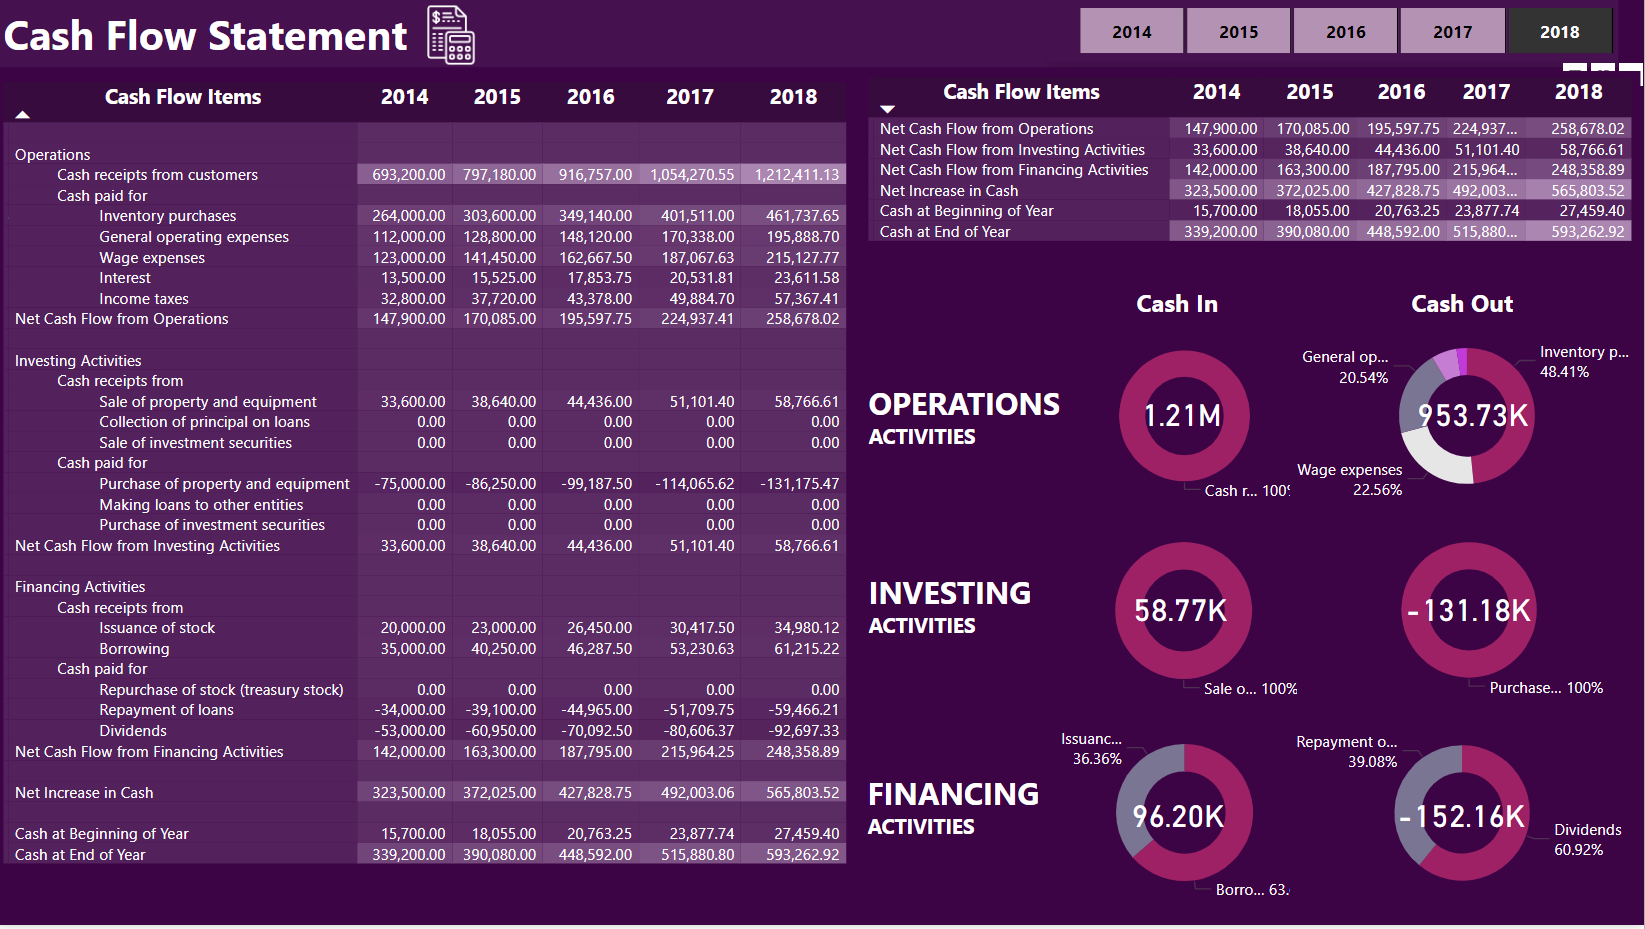

Layout of this report page (visuals, bound fields, positions):
{"tool":"powerbi","page":{"name":"Cash Flow Statement","canvas":[1280,720],"ordinal":3},"visuals":[{"type":"pivotTable","fields":{"Rows":["CF Template.Row Index","CF Template.Cash Flow Items"],"Values":["CF Measures.CF Selected Year Actuals"],"Columns":["Dates.Year"]},"box":[0,60,666.2,651.2],"z":0},{"type":"textbox","box":[0,0,1259.8,53.3],"z":1000},{"type":"donutChart","fields":{"Y":["CF Measures.CS Values"],"Category":["F_CashFlowData.Cash Flow Sub Category"]},"box":[816.2,250,213.8,147.5],"z":2000},{"type":"card","fields":{"Values":["CF Measures.CS Values"]},"box":[843.8,292.5,153.8,61.2],"z":3000},{"type":"textbox","box":[672.5,292.5,167.5,73.8],"z":4000},{"type":"donutChart","fields":{"Y":["CF Measures.CS Values"],"Category":["F_CashFlowData.Cash Flow Sub Category"]},"box":[1005,250,275,147.5],"z":5000},{"type":"card","fields":{"Values":["CF Measures.CS Values"]},"box":[1070,292.5,153.8,61.2],"z":6000},{"type":"textbox","box":[672.5,438.8,157.5,75],"z":7000},{"type":"donutChart","fields":{"Y":["CF Measures.CS Values"],"Category":["F_CashFlowData.Cash Flow Sub Category"]},"box":[816.2,397.5,212.5,156.2],"z":8000},{"type":"card","fields":{"Values":["CF Measures.CS Values"]},"box":[865,455,108.8,38.8],"z":9000},{"type":"donutChart","fields":{"Y":["BS Measures.ABS CF VAlues"],"Category":["F_CashFlowData.Cash Flow Sub Category"]},"box":[1010,401.2,267.5,147.5],"z":10000},{"type":"card","fields":{"Values":["CF Measures.CS Values"]},"box":[1088.8,455,108.8,38.8],"z":11000},{"type":"textbox","box":[671.2,595,168.8,73.8],"z":12000},{"type":"donutChart","fields":{"Y":["CF Measures.CS Values"],"Category":["F_CashFlowData.Cash Flow Sub Category"]},"box":[816.2,553.8,213.8,156.2],"z":13000},{"type":"donutChart","fields":{"Y":["BS Measures.ABS CF VAlues"],"Category":["F_CashFlowData.Cash Flow Sub Category"]},"box":[1005,558.8,267.5,147.5],"z":14000},{"type":"card","fields":{"Values":["CF Measures.CS Values"]},"box":[860,613.8,115,40],"z":15000},{"type":"card","fields":{"Values":["CF Measures.CS Values"]},"box":[1080,613.8,115,40],"z":16000},{"type":"textbox","box":[867.5,218.8,100,41.2],"z":17000},{"type":"textbox","box":[1088.8,218.8,100,41.2],"z":18000},{"type":"slicer","fields":{"Values":["Dates.Year"]},"box":[816.2,0,463.8,48.8],"z":19000},{"type":"image","box":[303.8,0,97.5,56.2],"z":20000},{"type":"pivotTable","fields":{"Rows":["CF Template.Row Index","CF Template.Cash Flow Items"],"Values":["CF Measures.CF Selected Year Actuals"],"Columns":["Dates.Year"]},"box":[672.5,56.2,605,138.8],"z":21000}]}

Visuals, with their boxes in screenshot pixels (x1, y1, x2, y2), scaled from the page's 1280x720 canvas onto the 1645x929 screenshot:
pivotTable - CF Template.Row Index x CF Template.Cash Flow Items: [x1=0, y1=77, x2=856, y2=918]
textbox: [x1=0, y1=0, x2=1619, y2=69]
donutChart - CF Measures.CS Values x F_CashFlowData.Cash Flow Sub Category: [x1=1049, y1=323, x2=1324, y2=513]
card - CF Measures.CS Values: [x1=1084, y1=377, x2=1282, y2=456]
textbox: [x1=864, y1=377, x2=1080, y2=473]
donutChart - CF Measures.CS Values x F_CashFlowData.Cash Flow Sub Category: [x1=1292, y1=323, x2=1644, y2=513]
card - CF Measures.CS Values: [x1=1375, y1=377, x2=1573, y2=456]
textbox: [x1=864, y1=566, x2=1067, y2=663]
donutChart - CF Measures.CS Values x F_CashFlowData.Cash Flow Sub Category: [x1=1049, y1=513, x2=1322, y2=714]
card - CF Measures.CS Values: [x1=1112, y1=587, x2=1251, y2=637]
donutChart - BS Measures.ABS CF VAlues x F_CashFlowData.Cash Flow Sub Category: [x1=1298, y1=518, x2=1642, y2=708]
card - CF Measures.CS Values: [x1=1399, y1=587, x2=1539, y2=637]
textbox: [x1=863, y1=768, x2=1080, y2=863]
donutChart - CF Measures.CS Values x F_CashFlowData.Cash Flow Sub Category: [x1=1049, y1=715, x2=1324, y2=916]
donutChart - BS Measures.ABS CF VAlues x F_CashFlowData.Cash Flow Sub Category: [x1=1292, y1=721, x2=1635, y2=911]
card - CF Measures.CS Values: [x1=1105, y1=792, x2=1253, y2=844]
card - CF Measures.CS Values: [x1=1388, y1=792, x2=1536, y2=844]
textbox: [x1=1115, y1=282, x2=1243, y2=335]
textbox: [x1=1399, y1=282, x2=1528, y2=335]
slicer - Dates.Year: [x1=1049, y1=0, x2=1644, y2=63]
image: [x1=390, y1=0, x2=516, y2=73]
pivotTable - CF Template.Row Index x CF Template.Cash Flow Items: [x1=864, y1=73, x2=1642, y2=252]
